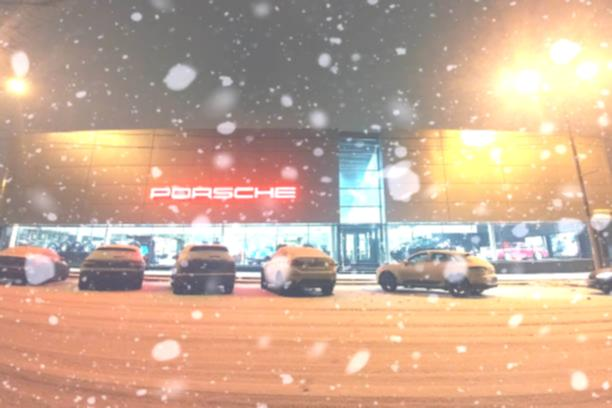porsche: (148, 183, 300, 206)
